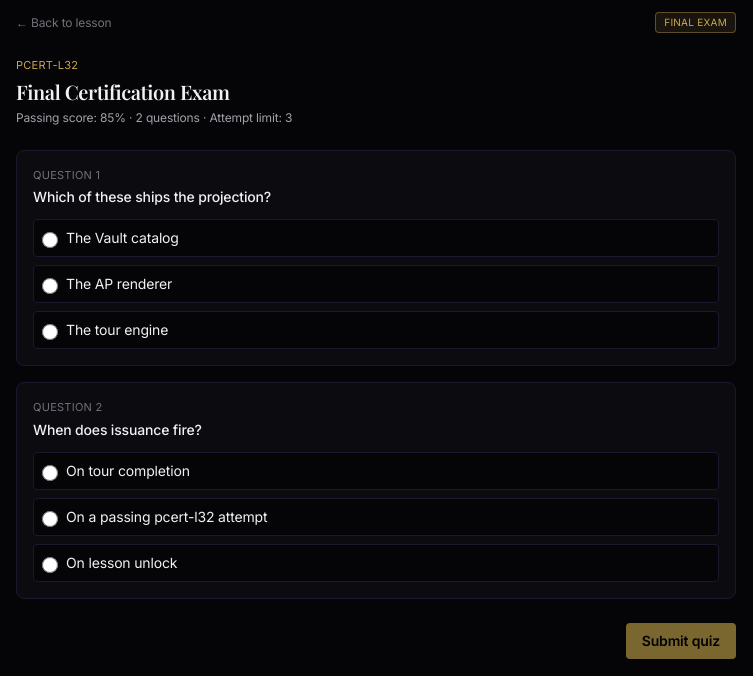
Test: QuizPageClient — submit › disables Submit until every question has an answer
Expected: the button "Submit quiz" is disabled, [626,622,736,658]
Click the radio button labelled "The Vault catalog". click: (50, 240)
box: [42,232,58,248]
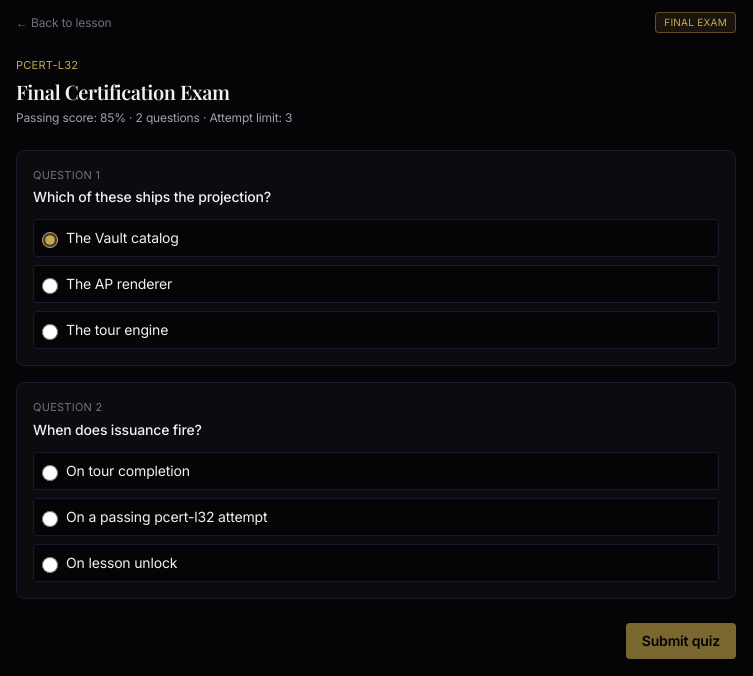
Expected: the button "Submit quiz" is disabled, [626,622,736,658]
Click the radio button labelled "On a passing pcert-l32 attempt". click: (50, 518)
box: [42,510,58,526]
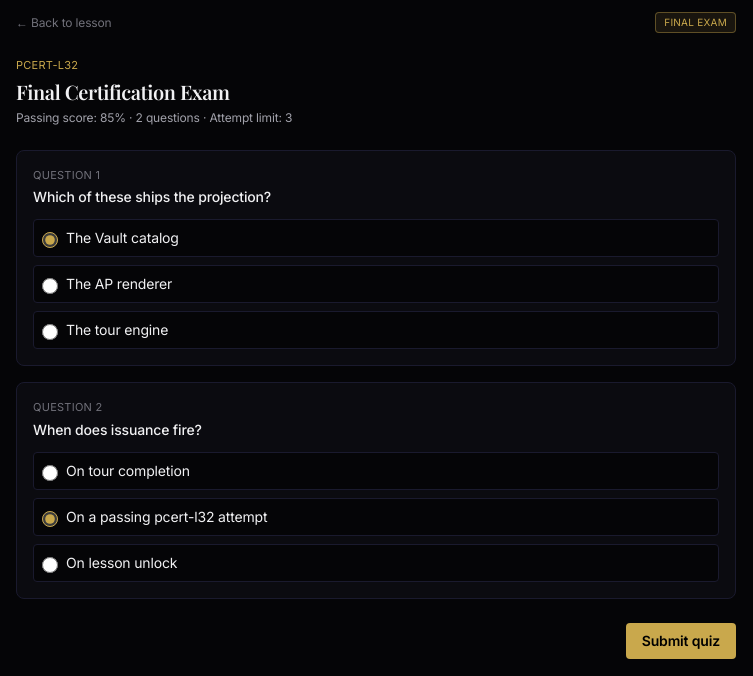
Expected: the button "Submit quiz" is enabled, [626,622,736,658]
